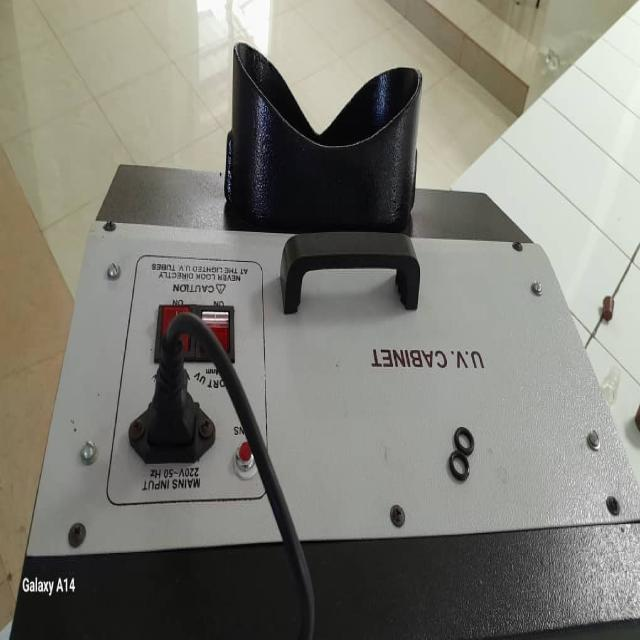U.V Cabinet: (11, 34, 639, 640)
